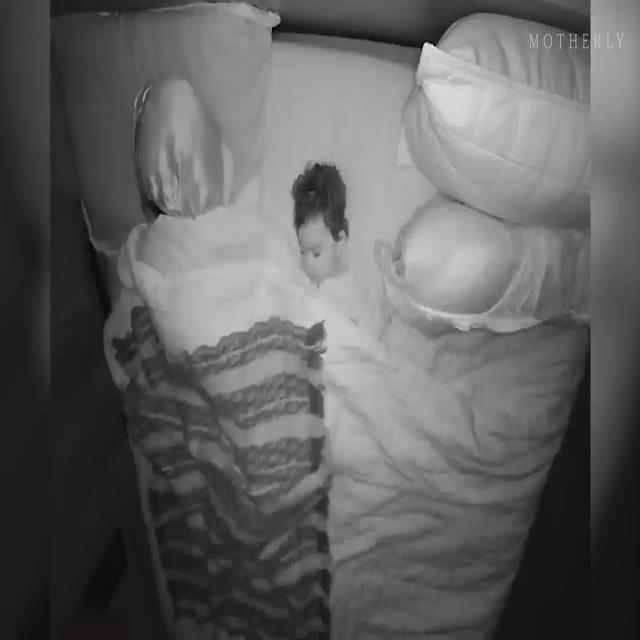baby: (292, 162, 365, 323)
